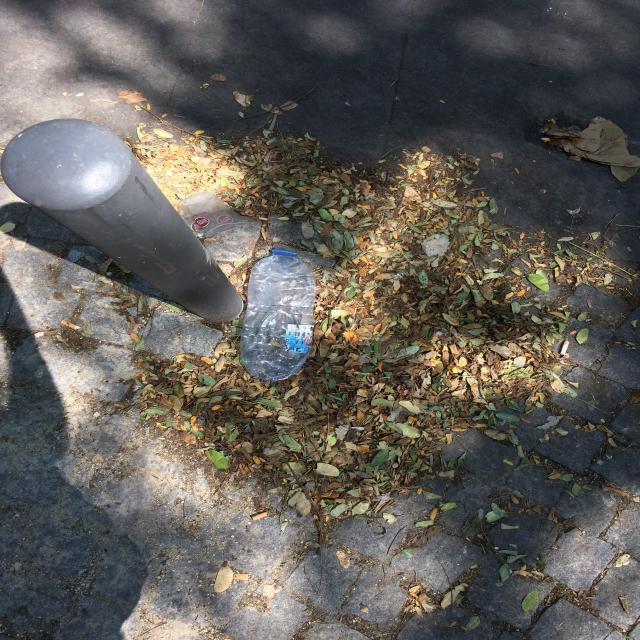litter: (240, 248, 316, 383), (543, 120, 640, 182), (177, 191, 245, 239), (61, 320, 81, 329), (559, 340, 569, 355), (252, 512, 267, 521), (233, 574, 249, 581)
